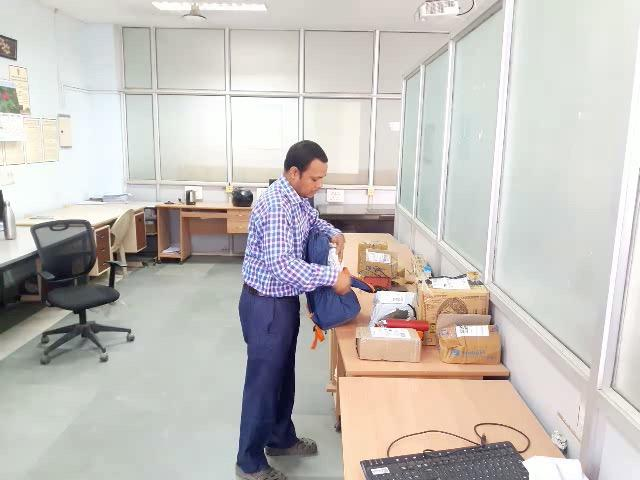shoplifting: (224, 199, 386, 326)
